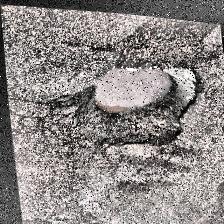pothole: (86, 53, 196, 133)
